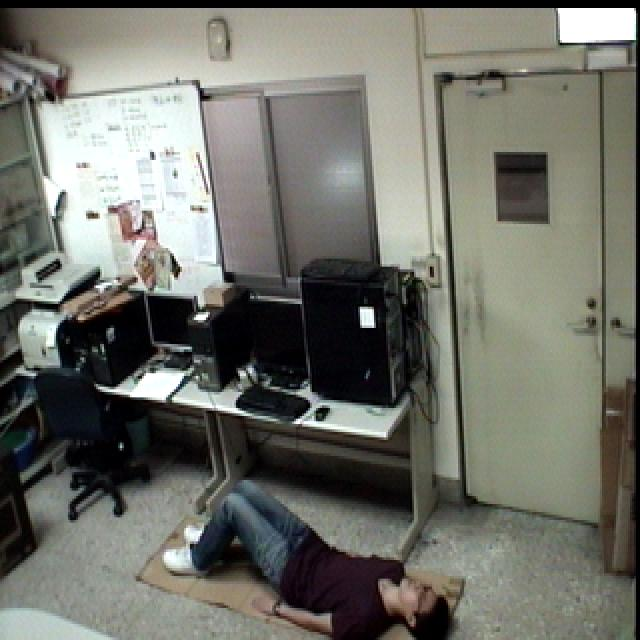lie: (157, 473, 459, 640)
